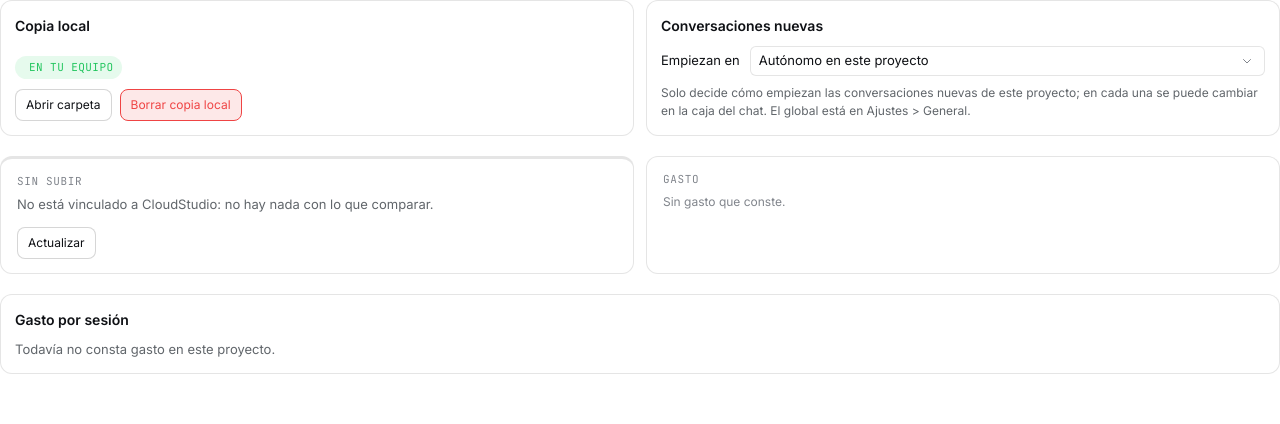
con qué modo nacen las conversaciones nuevas del proyecto (IXCODE-31) › una negativa se enseña y el valor no se mueve
The width and height of the screenshot is (1280, 424).
Select "Supervisado en este proyecto" in the dropdown: (1007, 61) [750, 46, 1265, 76]
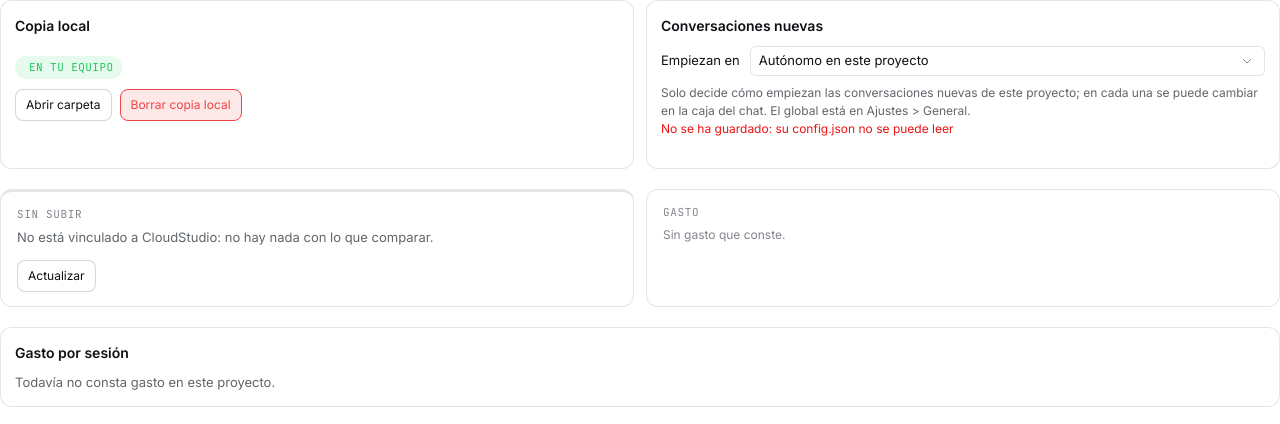
Check: the message "No se ha guardado: su config.json no se puede leer" is shown, box [661, 120, 954, 136]
